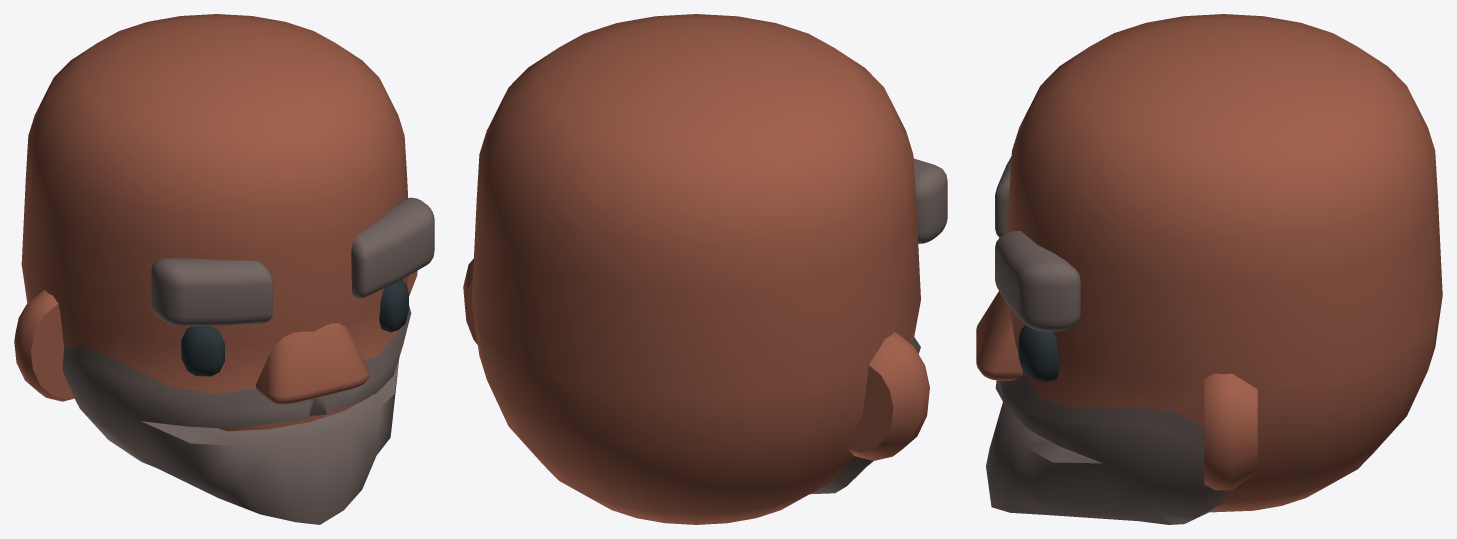
Rendered from barbarianHeadA.gltf.glb.
The picture shows the model from 3 angles, left to right: view 1: azimuth 30°, elevation 25°; view 2: azimuth 150°, elevation 25°; view 3: azimuth 270°, elevation 25°; orthographic projection. The views are drawn at different scales.
Visible parts, largest first — view 1: barbarianHeadA; view 2: barbarianHeadA; view 3: barbarianHeadA.
Part boxes in pixels (x1=…): barbarianHeadA: x1=14, y1=14, x2=434, y2=524; barbarianHeadA: x1=463, y1=14, x2=947, y2=524; barbarianHeadA: x1=976, y1=14, x2=1442, y2=524.
Size of the model in its own units: 1.18 by 1.14 by 1.06.
